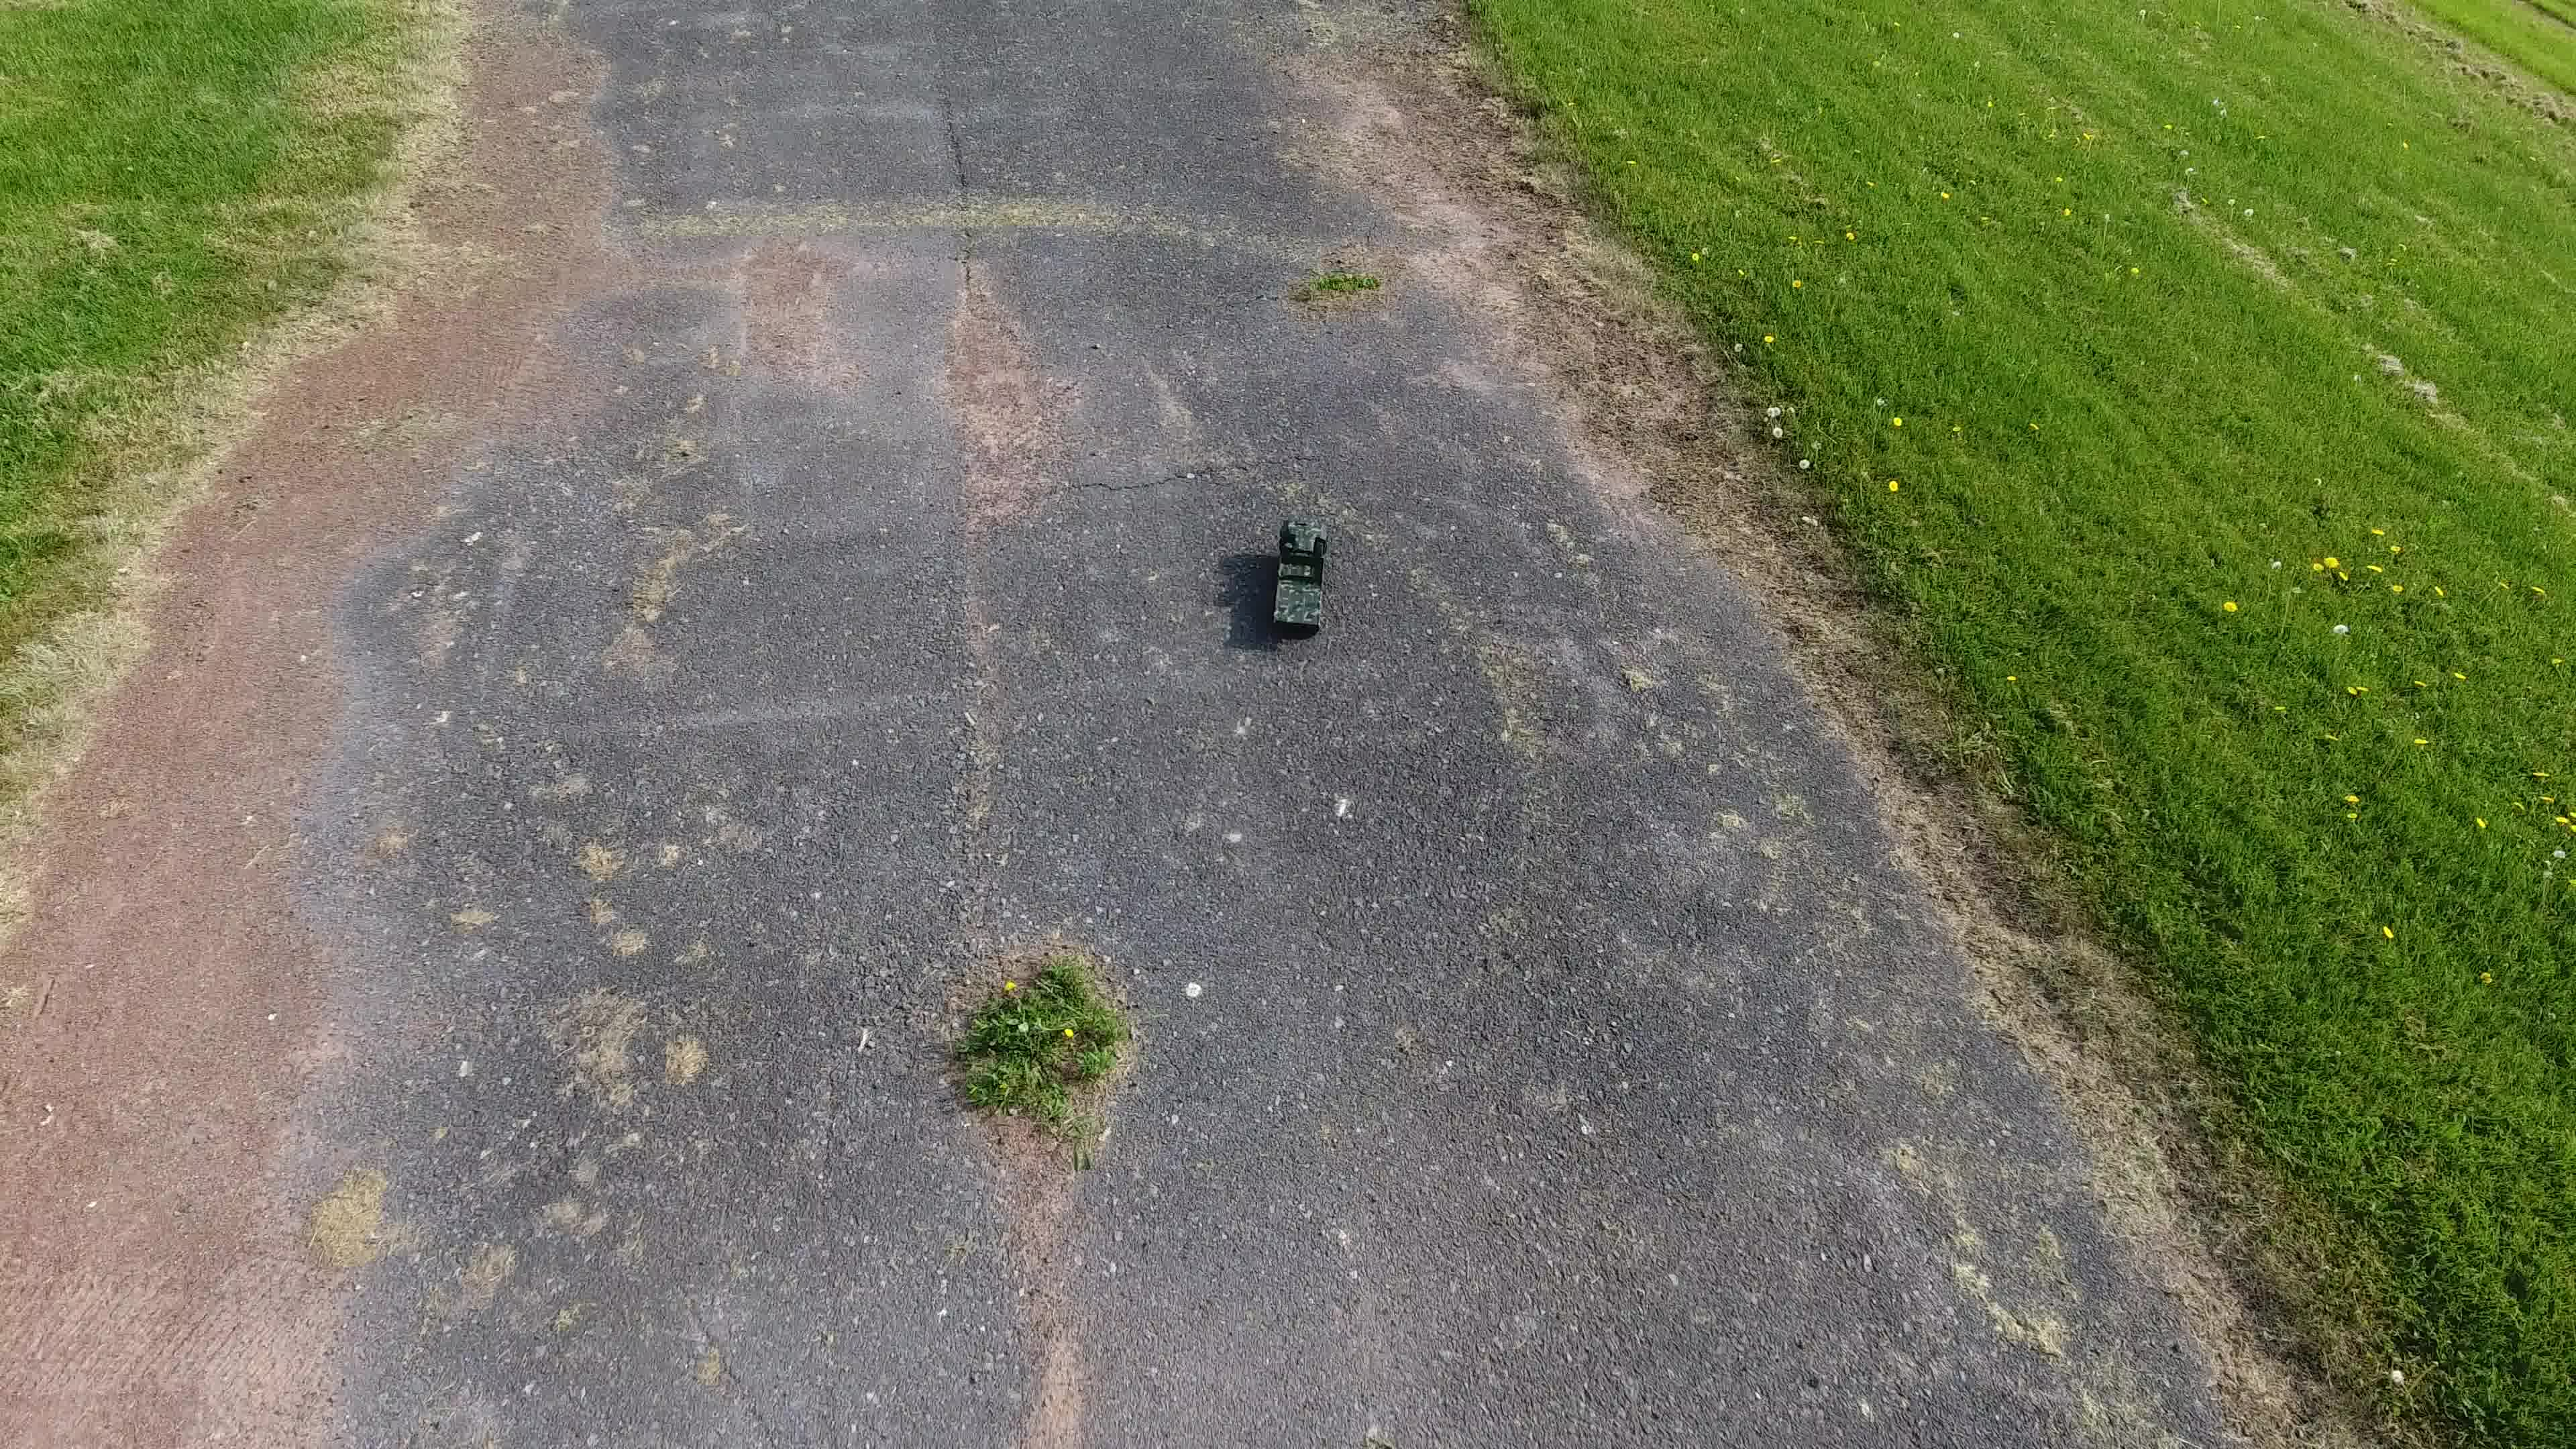transporter9: (1267, 518, 1332, 635)
